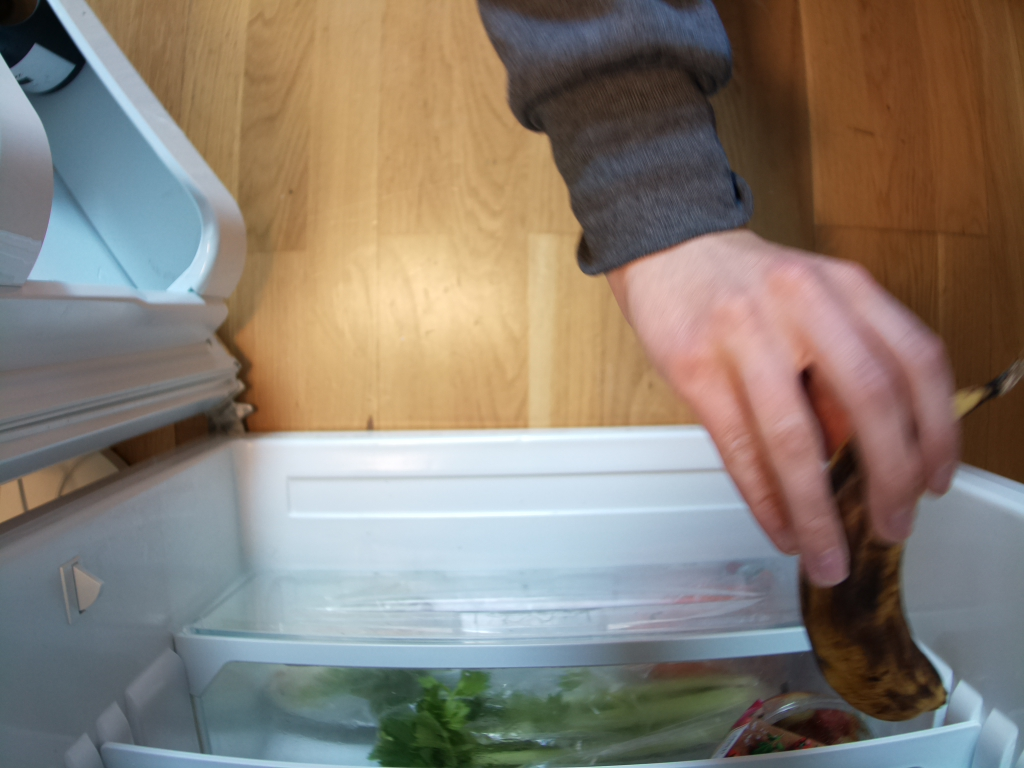banana-overripe: (798, 366, 1024, 721)
